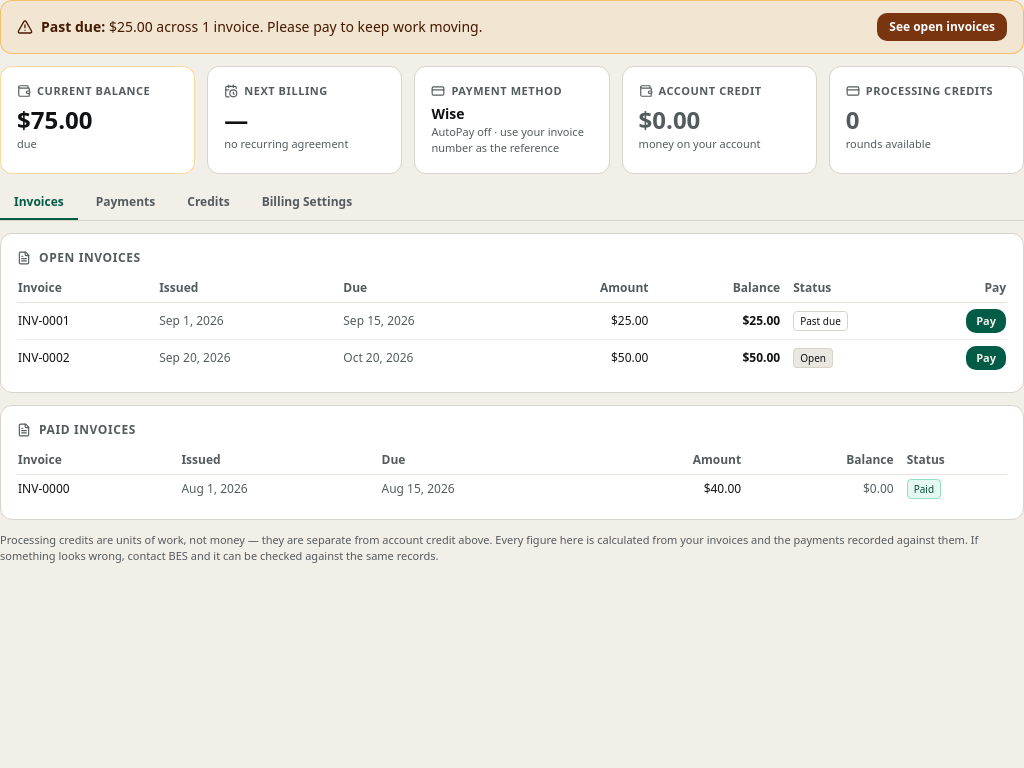
Test: the partner's Billing page › opens a receipt for a payment, from that payment's own record
Click the button "payments" at x=125, y=202, box [82,186,169,220]
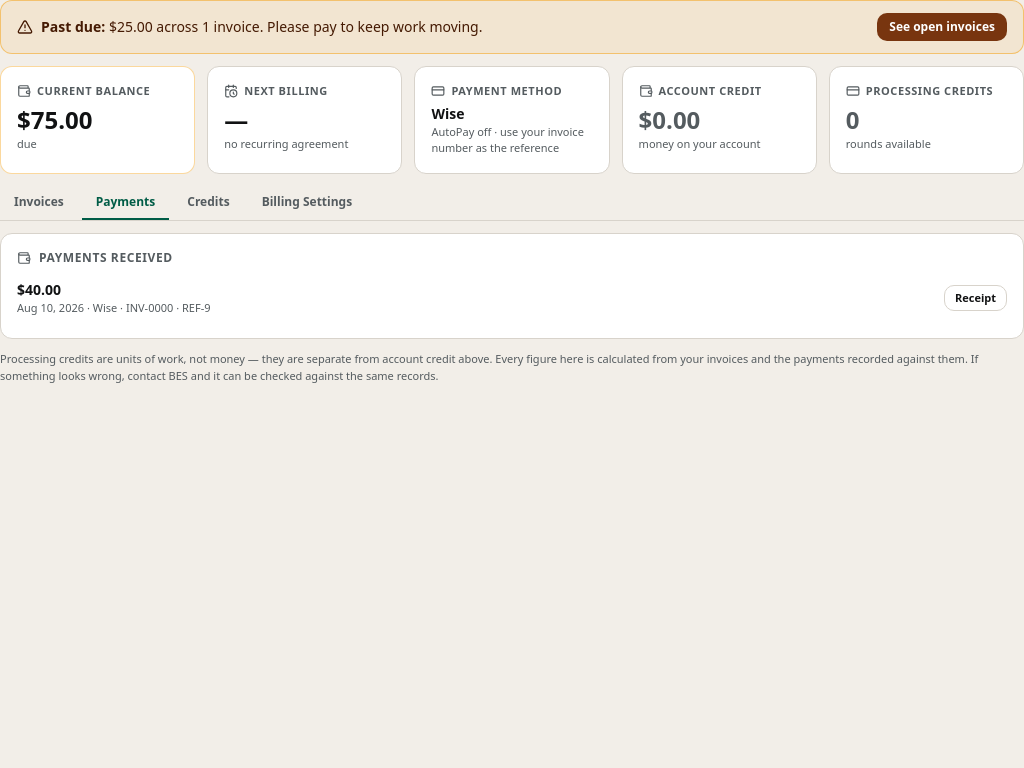
Click the button "Receipt" at x=976, y=298, box [944,284,1007,311]
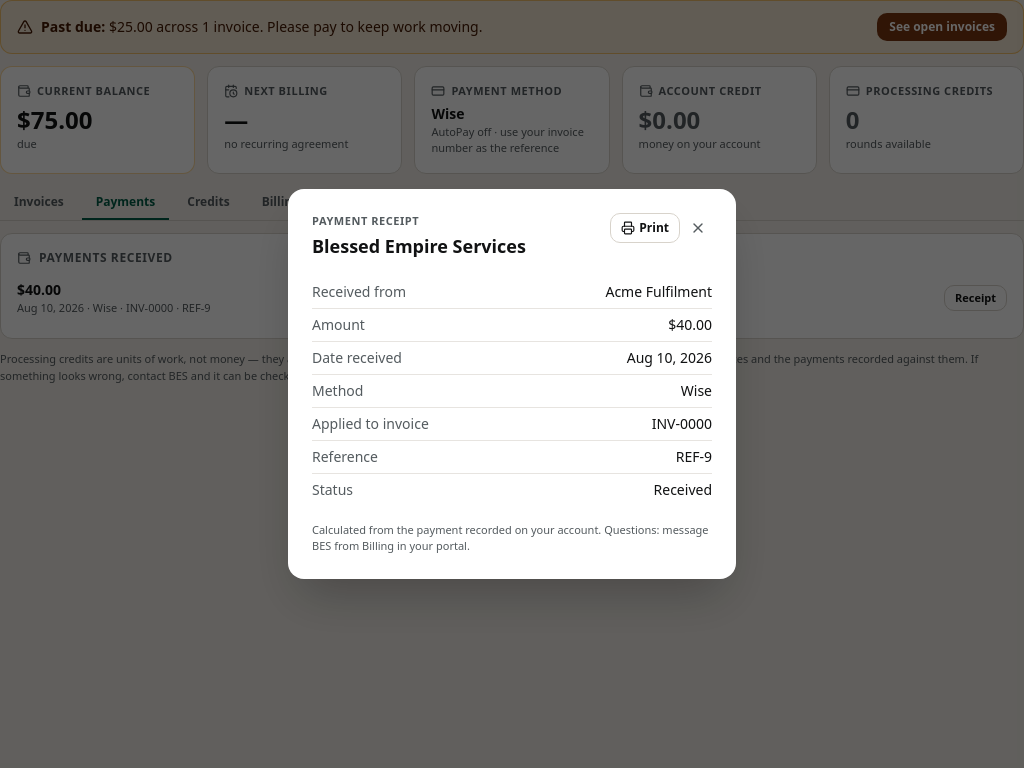
Now the text "Acme Fulfilment" is shown, box [605,282,712,302]
Now the text "REF-9" is shown, box [676,447,712,467]
Now the button "Print" is shown, box [610,213,680,243]
